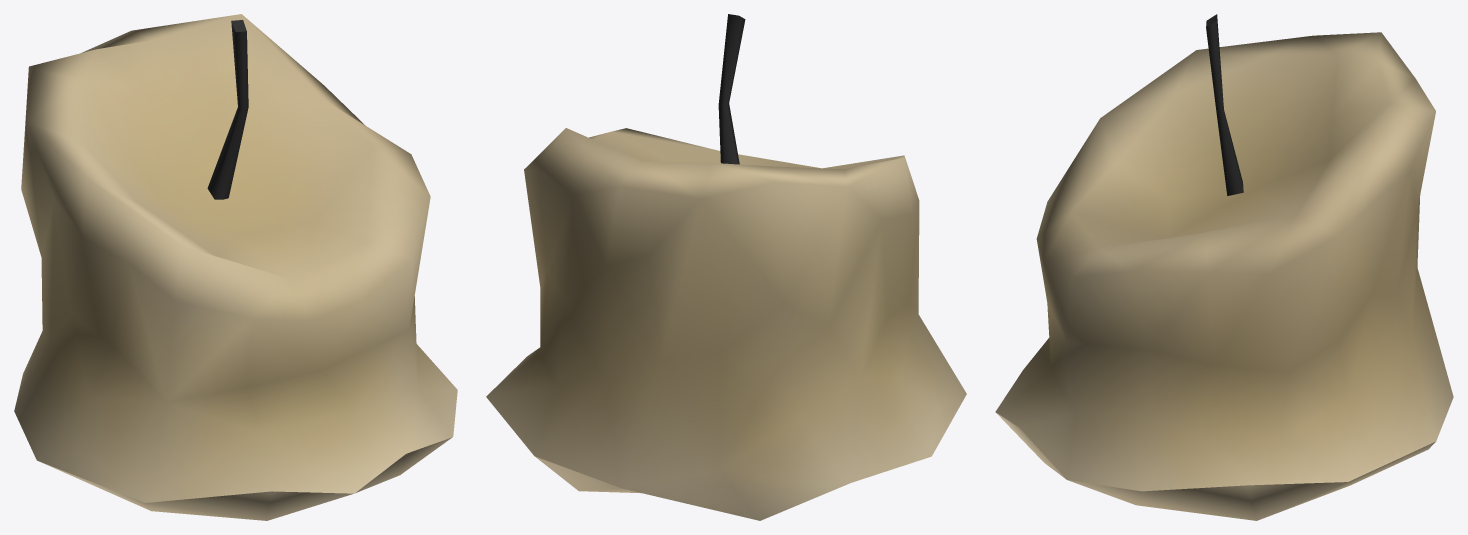
The model's file is SM_Candle_02.fbx.
3 renders of one model, left to right at view 1: azimuth 30°, elevation 25°; view 2: azimuth 150°, elevation 25°; view 3: azimuth 270°, elevation 25°, orthographic.
Parts seen in each view (by area): view 1: polySurface2; view 2: polySurface2; view 3: polySurface2.
Part boxes in pixels (x1,y1,x2,y2): polySurface2: (14,14,457,520); polySurface2: (486,14,966,520); polySurface2: (995,14,1453,520).
Size of the model in its own units: 6.81 by 7.03 by 6.96.
Materials: 1 (1 with a texture image).
